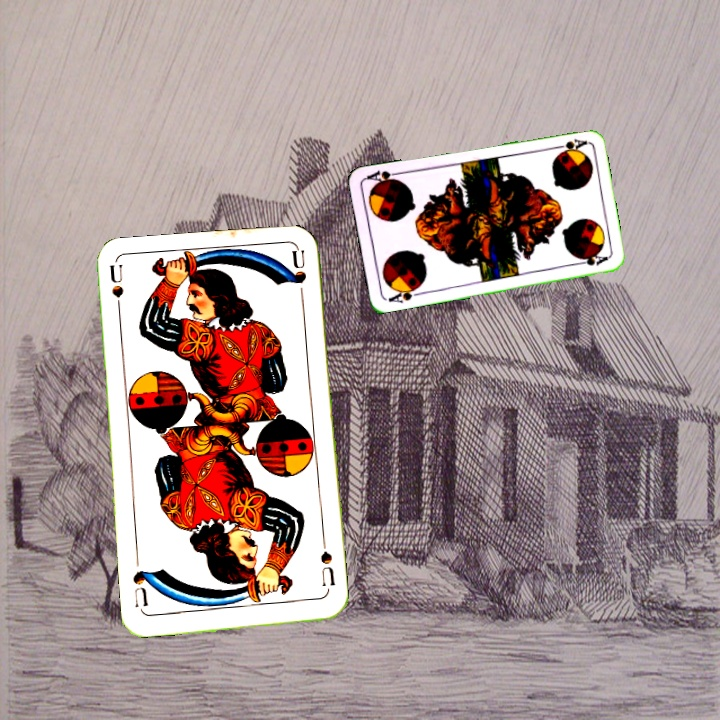SA: (384, 282, 424, 305), (548, 135, 589, 155)
SU: (106, 262, 126, 322), (316, 547, 338, 597)
